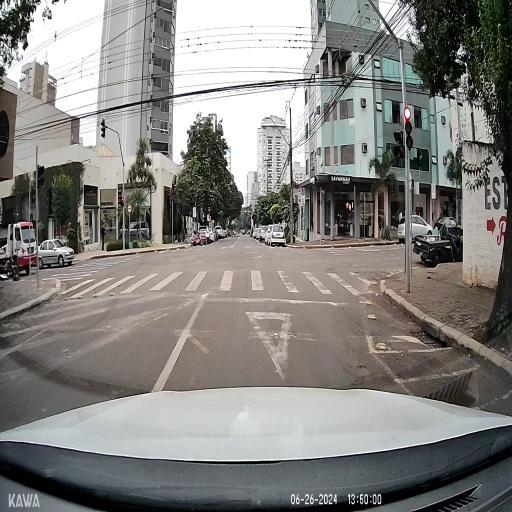R-24a: (127, 204, 132, 212)
